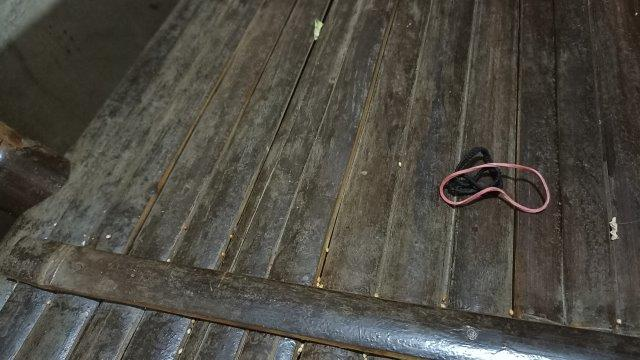karet: (440, 147, 550, 213)
